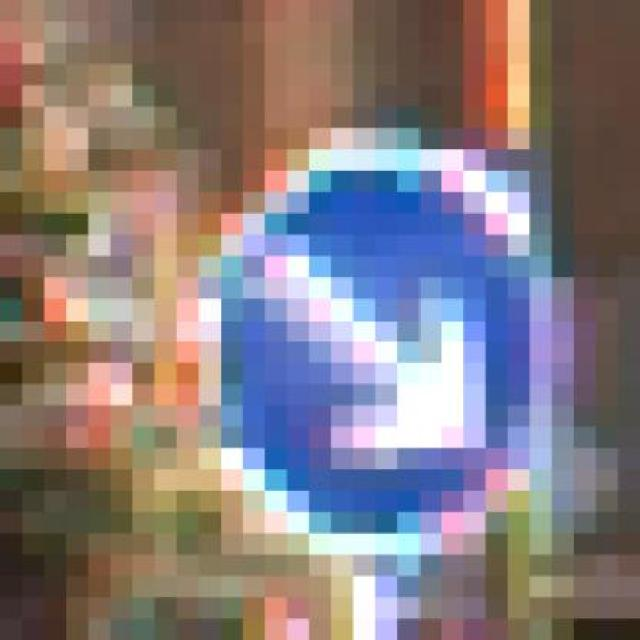Keep-Right: (176, 107, 596, 598)
